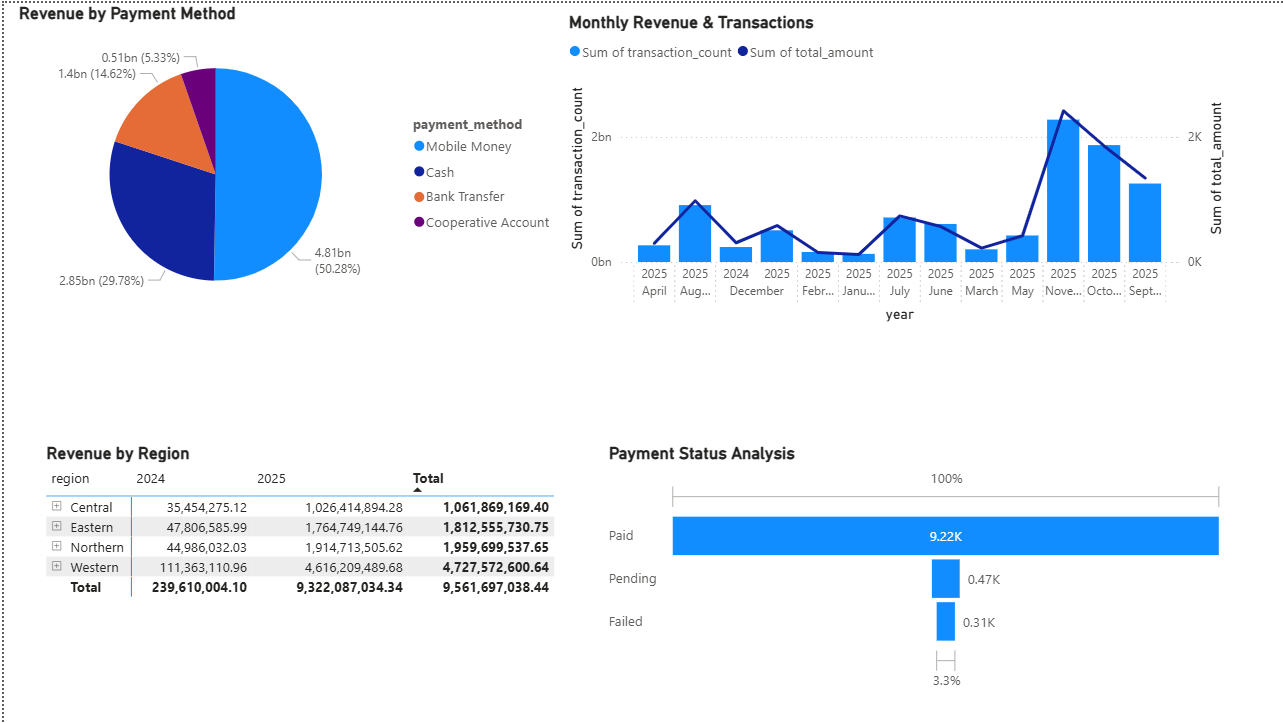

The dashboard page shown, as its layout file describes it:
{"tool":"powerbi","page":{"name":"Financial Performance","canvas":[1280,720],"ordinal":3},"visuals":[{"type":"pieChart","title":"Revenue by Payment Method","fields":{"Category":["dw dim_payment_method.payment_method"],"Y":["Sum(dw fact_transaction.total_amount)"]},"box":[10.2,0,549.9,324.1],"z":0},{"type":"lineClusteredColumnComboChart","title":"Monthly Revenue & Transactions","fields":{"Category":["dw dim_date.month_name","dw dim_date.year"],"Y":["Sum(dw fact_transaction.total_amount)"],"Y2":["Sum(dw fact_transaction.transaction_count)"]},"box":[560,8.8,665,315],"z":1000},{"type":"pivotTable","title":"Revenue by Region","fields":{"Rows":["dw dim_market.region","dw dim_market.district"],"Columns":["dw dim_date.year","dw dim_date.month_name"],"Values":["Sum(dw fact_transaction.total_amount)"]},"box":[37.5,440,522.5,242.5],"z":2000},{"type":"funnel","title":"Payment Status Analysis","fields":{"Category":["dw fact_transaction.payment_status"],"Y":["CountNonNull(dw fact_transaction.total_amount)"]},"box":[600,440,625,252.5],"z":3000}]}

Visuals, with their boxes in screenshot pixels (x1, y1, x2, y2), scaled from the page's 1280x720 canvas onto the 1283x723 screenshot:
"Revenue by Payment Method" pieChart: [x1=10, y1=0, x2=561, y2=325]
"Monthly Revenue & Transactions" lineClusteredColumnComboChart: [x1=561, y1=9, x2=1228, y2=325]
"Revenue by Region" pivotTable: [x1=38, y1=442, x2=561, y2=685]
"Payment Status Analysis" funnel: [x1=601, y1=442, x2=1228, y2=695]
